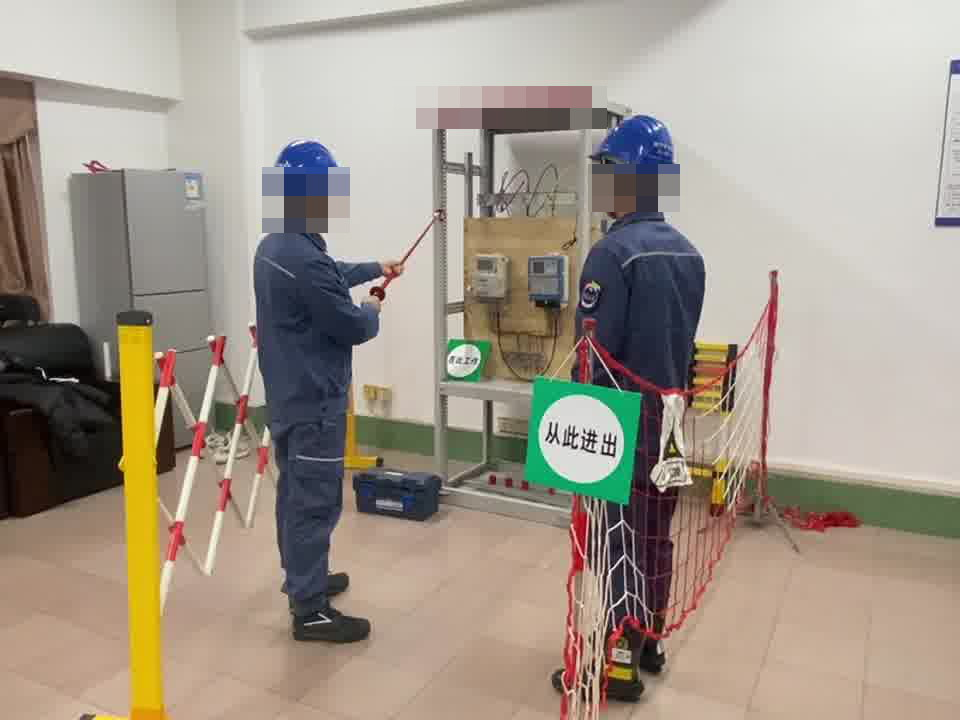downsuit: (269, 426, 352, 608)
halt: (588, 114, 679, 215), (270, 141, 351, 227)
hand: (378, 257, 404, 280)
inear: (597, 157, 629, 203), (307, 184, 337, 222)
intosign: (523, 375, 645, 506)
person: (247, 138, 403, 644), (567, 109, 711, 655)
shoe: (548, 613, 667, 708)
sleeve: (577, 278, 602, 315)
testrod: (368, 206, 446, 303)
upsuit: (252, 225, 382, 417), (578, 217, 706, 386)
worksign: (444, 338, 493, 382)
wronghold: (371, 244, 412, 303)
